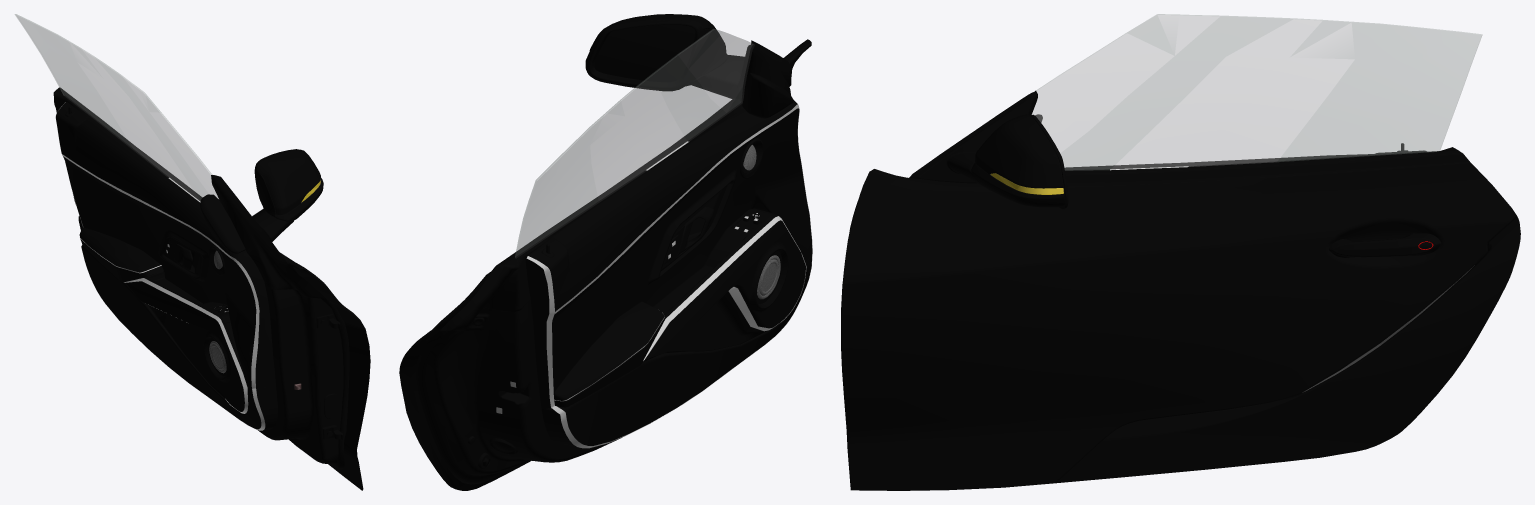
Rendered from Toyota_GRSupra_Door.FBX.
3 views of the same model, side by side, from view 1: azimuth 30°, elevation 25°; view 2: azimuth 150°, elevation 25°; view 3: azimuth 270°, elevation 25° (orthographic). The views are drawn at different scales.
Parts seen in each view (by area): view 1: Door_Interior, Glass_Exterior, Glass_Interior, Door_Exterior, Stitches; view 2: Door_Interior, Glass_Interior, Glass_Exterior, Door_Exterior, Stitches; view 3: Door_Exterior, Glass_Exterior, Glass_Interior, Door_Interior.
Boxes of the visible parts, x1,y1,x2,y2 form: Door_Interior: [53, 89, 370, 490]; Glass_Exterior: [15, 14, 217, 200]; Glass_Interior: [15, 15, 218, 201]; Door_Exterior: [57, 87, 370, 490]; Stitches: [55, 102, 265, 430]; Door_Interior: [400, 40, 812, 490]; Glass_Interior: [516, 29, 754, 257]; Glass_Exterior: [515, 29, 752, 257]; Door_Exterior: [399, 14, 811, 458]; Stitches: [526, 104, 812, 448]; Door_Exterior: [841, 91, 1520, 490]; Glass_Exterior: [1032, 14, 1481, 170]; Glass_Interior: [1032, 14, 1481, 169]; Door_Interior: [1035, 90, 1457, 169].
Bounding box in the file's own units: 0.3882 × 0.9335 × 1.38.
